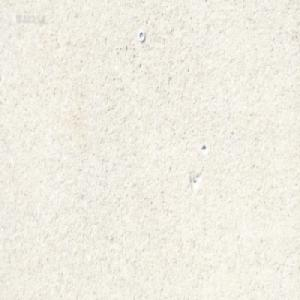Washer: (138, 29, 145, 42)
